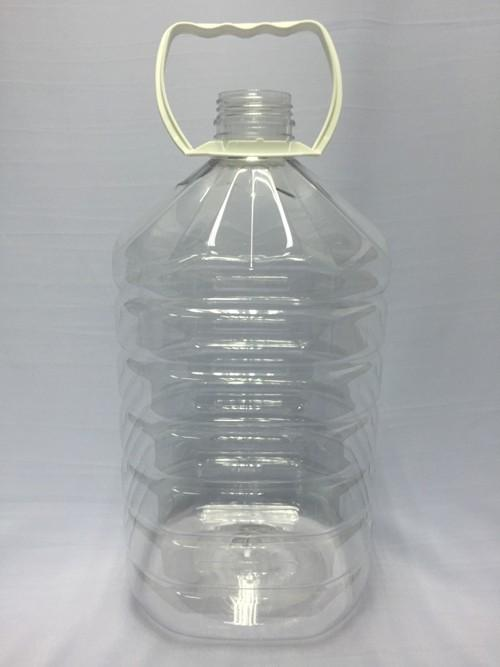plastic: (112, 22, 390, 653)
